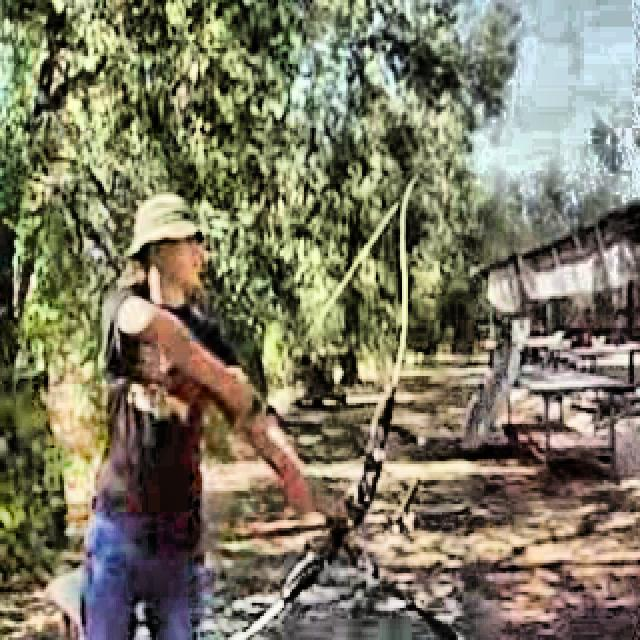I: (55, 161, 371, 640)
